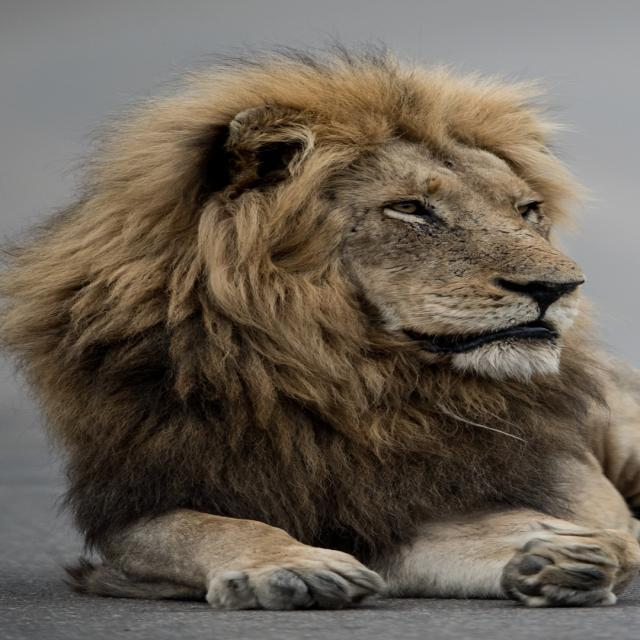lions: (10, 14, 640, 640)
